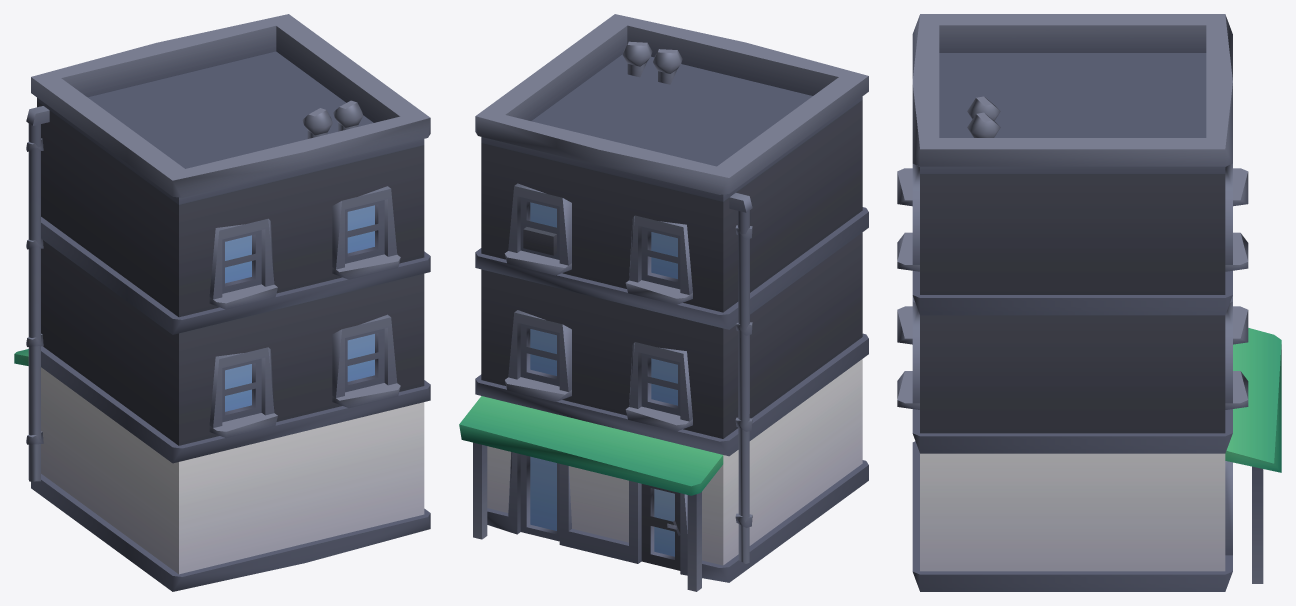
Rendered from 082_city-kit-commercial_building-h_card.glb.
3 views of the same model, side by side, from view 1: azimuth 30°, elevation 25°; view 2: azimuth 150°, elevation 25°; view 3: azimuth 270°, elevation 25° (orthographic). The views are drawn at different scales.
Parts seen in each view (by area): view 1: building-h; view 2: building-h; view 3: building-h.
Boxes of the visible parts, x1,y1,x2,y2 form: building-h: (14,14,430,591); building-h: (459,14,868,591); building-h: (897,14,1281,591).
Size of the model in its own units: 0.8836 by 1.29 by 1.01.
Materials: 1 (1 with a texture image).
